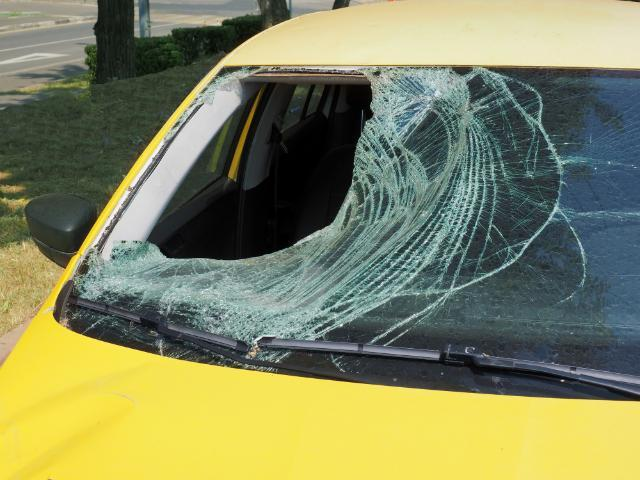glass shatter: (59, 66, 640, 402)
